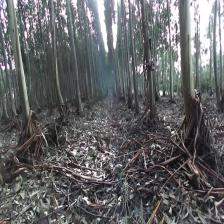trunk: (6, 4, 34, 136), (178, 4, 204, 126), (48, 8, 66, 111), (140, 5, 156, 118), (68, 18, 83, 113), (128, 5, 139, 112), (212, 9, 220, 105)
